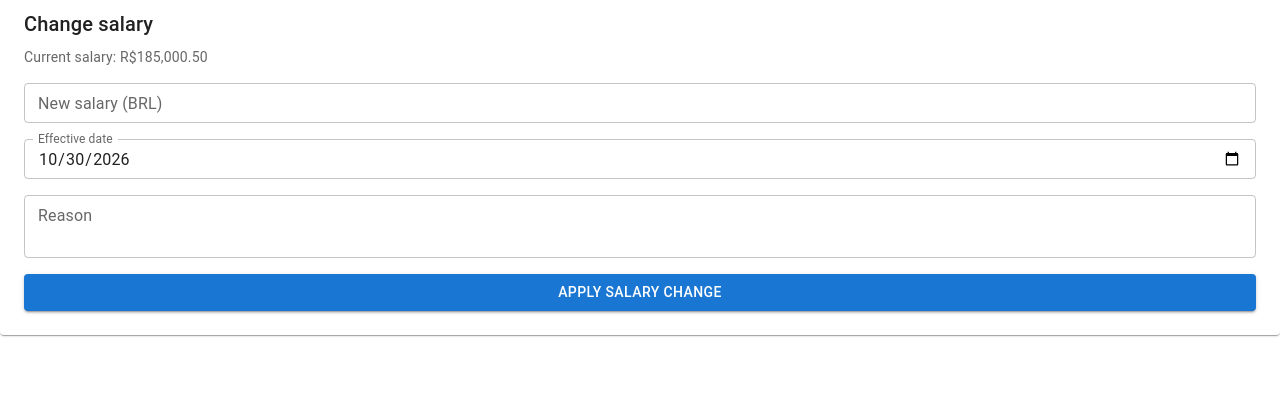
Test case: SalaryChangeForm › submits salary, reason and effective date with the contract field names
In the number field labelled "New salary (BRL)": point(640, 103) left=24, top=83, right=1256, bottom=123, type "200000"
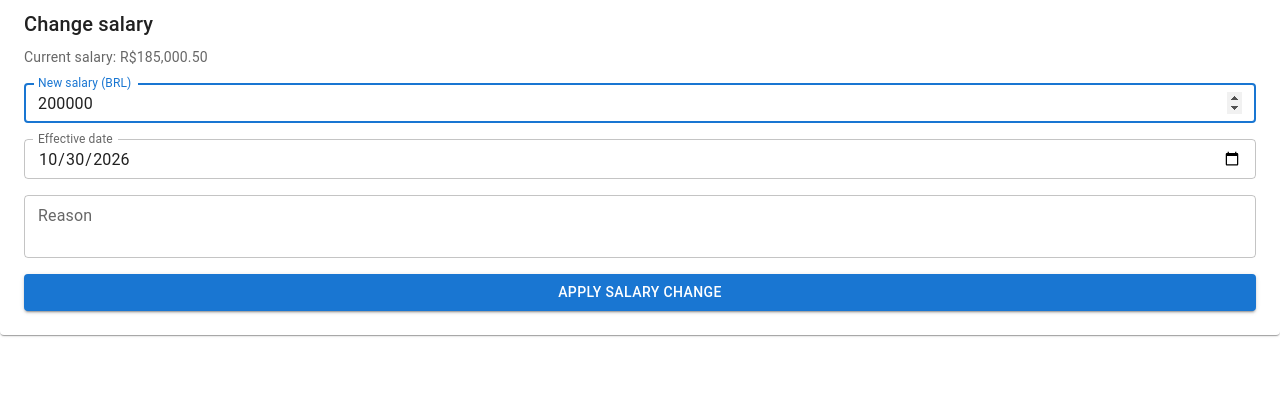
In the date field labelled "Effective date": point(640, 159) left=24, top=139, right=1256, bottom=179, type "2026-04-01"
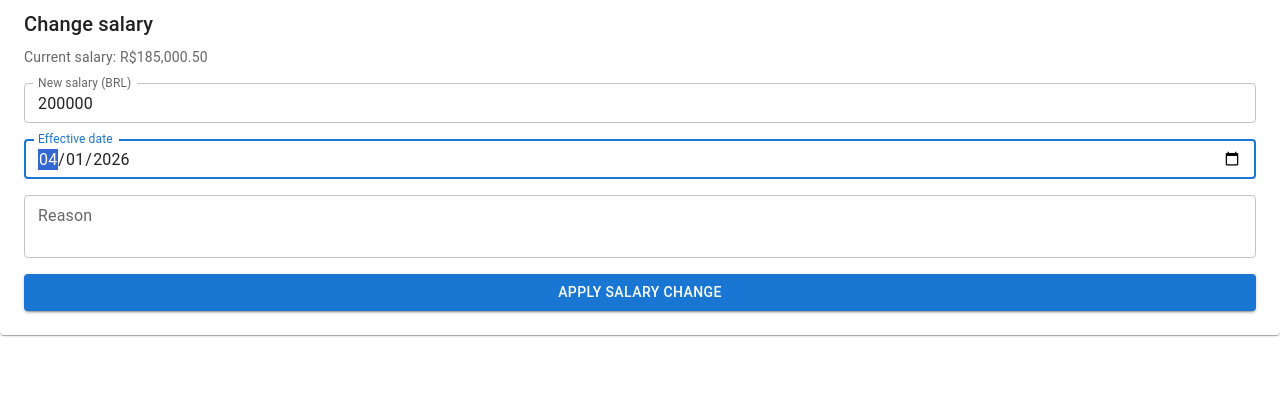
In the text box labelled "Reason": point(640, 226) left=38, top=204, right=1242, bottom=250, type " Annual review "
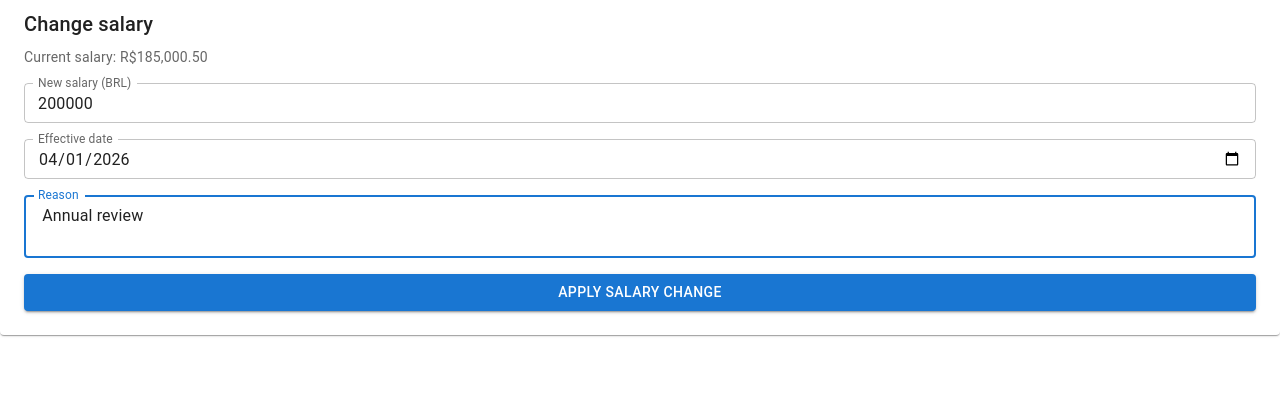
Click the button "Apply salary change": point(640, 292) left=24, top=274, right=1256, bottom=310
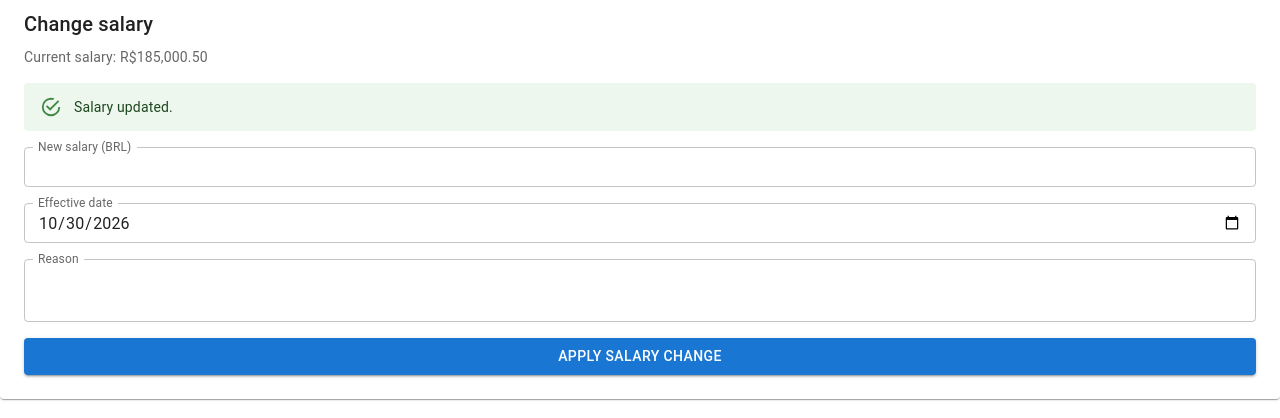
Expected: the text "Salary updated." is shown, left=74, top=99, right=173, bottom=115
